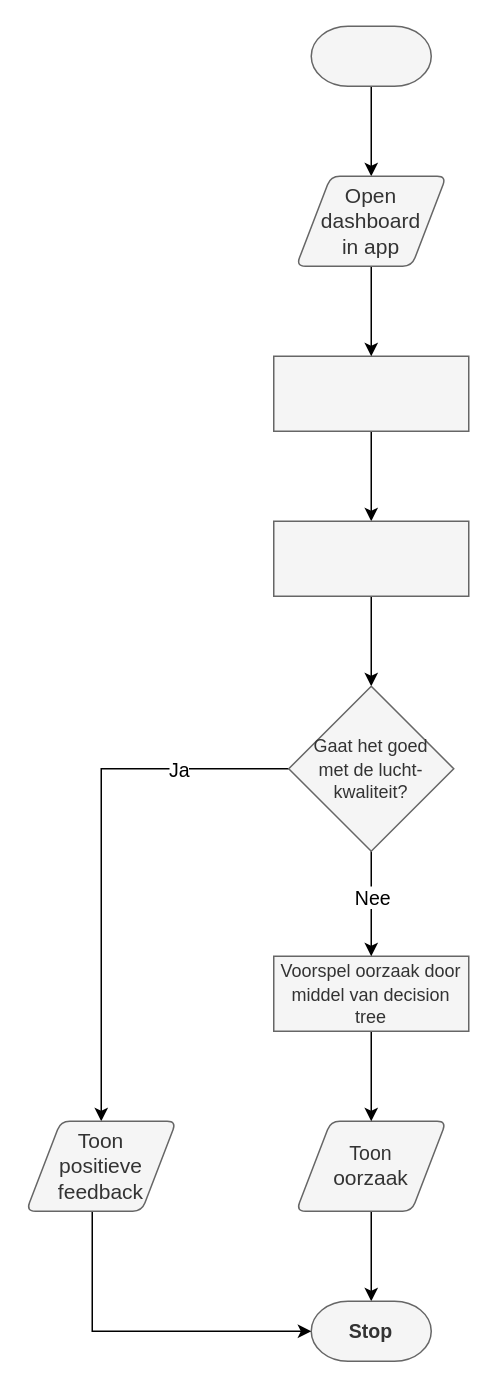
The diagram is 495 pixels wide and 1388 high, and some of its shapes have lost their labels. Here are the shapes that lost their labels. From the top down, the centre of each, then its label:
At (370,55): "Start".
At (370,393): "Vraag gegevens op aan API server".
At (370,558): "Haal recente luchtkwaliteit uit database".
